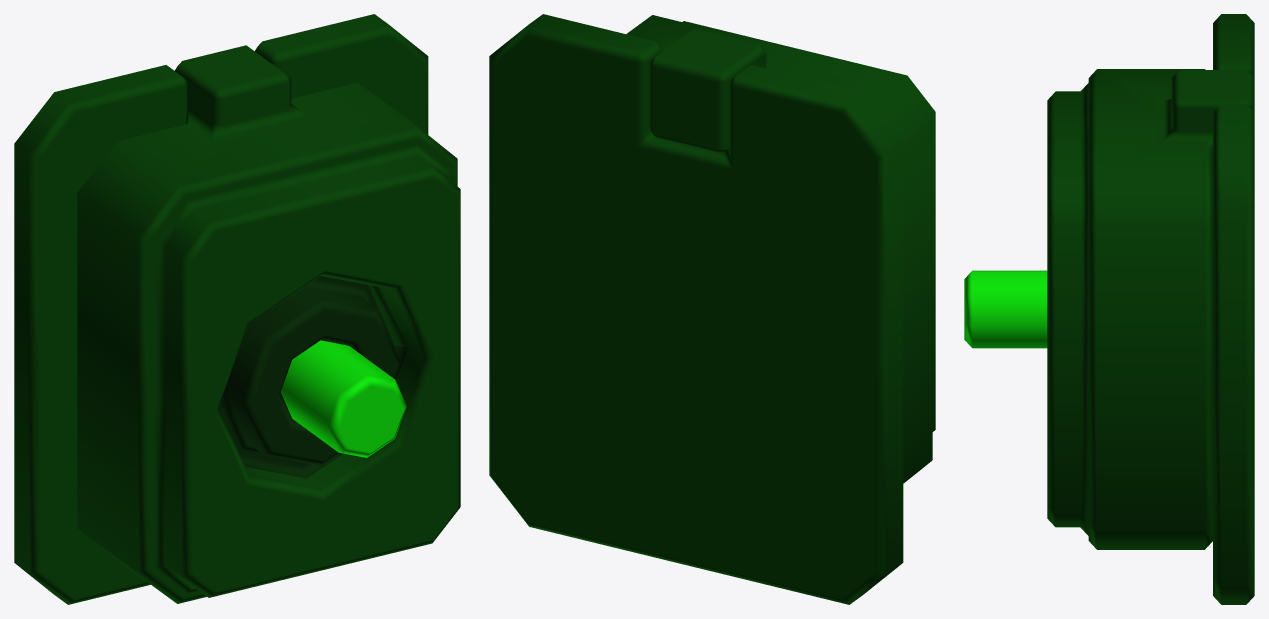
3 renders of one model, left to right at view 1: azimuth 30°, elevation 25°; view 2: azimuth 150°, elevation 25°; view 3: azimuth 270°, elevation 25°, orthographic. The views are drawn at different scales.
Visible parts, largest first — view 1: Plane.592, Plane.593; view 2: Plane.592; view 3: Plane.592, Plane.593.
Part boxes in pixels (<box>): Plane.592: <box>14,14,460,604</box>; Plane.593: <box>280,340,406,457</box>; Plane.592: <box>489,14,935,604</box>; Plane.592: <box>1047,14,1254,604</box>; Plane.593: <box>964,270,1047,348</box>.
Bounding box in the file's own units: 0.1 × 0.12 × 0.07.
